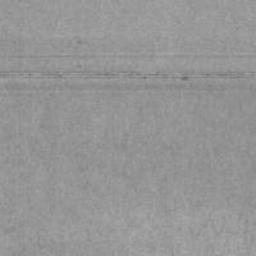Welding line: (0, 71, 256, 81)
